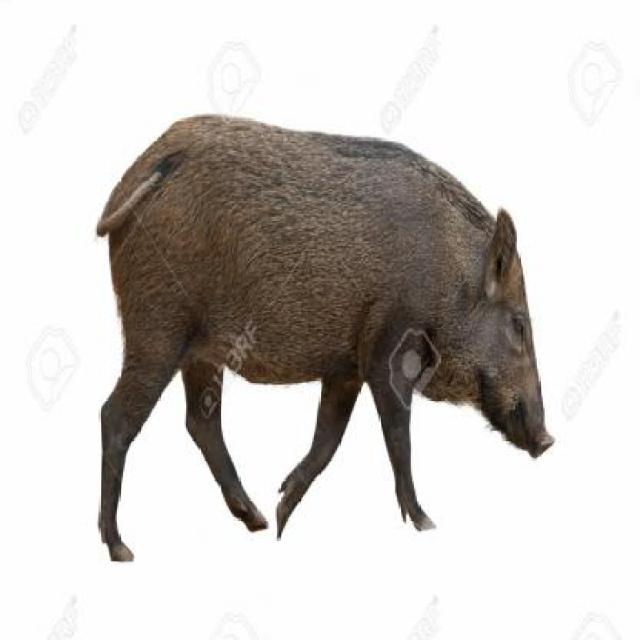Wild Boar: (90, 109, 558, 566)
